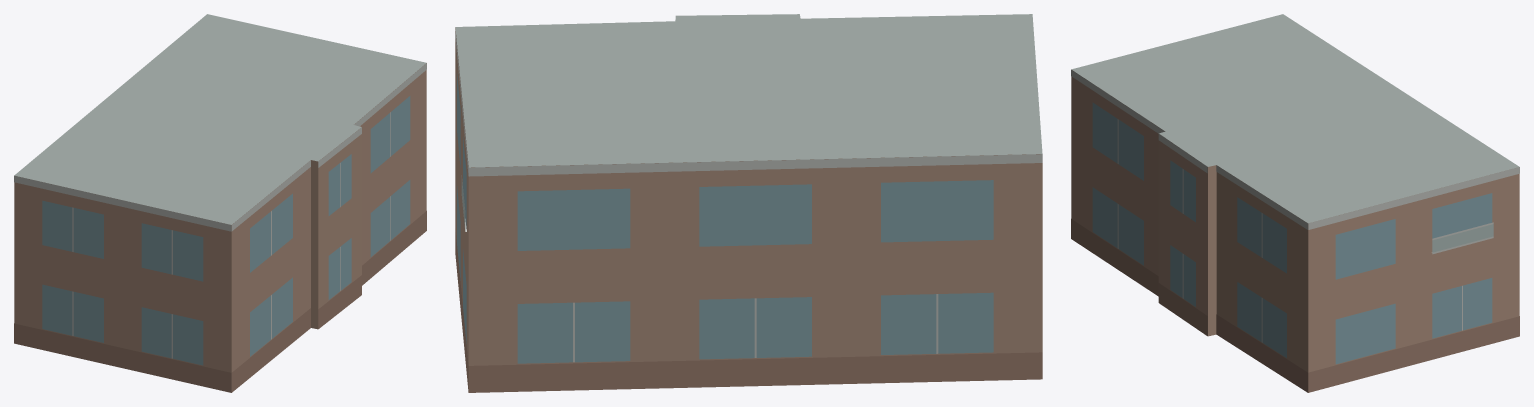
Rendered from survey-upis-32623865.glb.
3 renders of one model, left to right at view 1: azimuth 30°, elevation 25°; view 2: azimuth 150°, elevation 25°; view 3: azimuth 270°, elevation 25°, orthographic. The views are drawn at different scales.
Visible parts, largest first — view 1: survey-upis-32623865.tmp; view 2: survey-upis-32623865.tmp; view 3: survey-upis-32623865.tmp.
Part boxes in pixels (left/top/right/bottom): survey-upis-32623865.tmp: left=14, top=14, right=426, bottom=392; survey-upis-32623865.tmp: left=455, top=14, right=1042, bottom=392; survey-upis-32623865.tmp: left=1071, top=14, right=1519, bottom=392.
Size of the model in its own units: 16.17 by 6.1 by 14.64.
